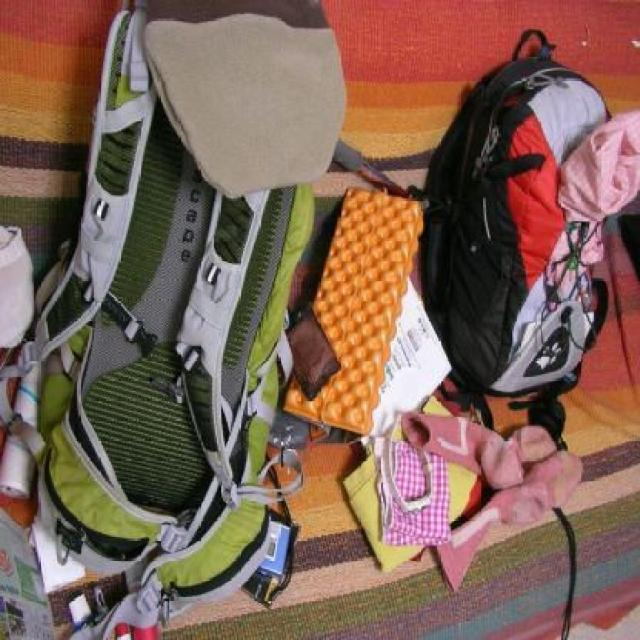backpack: (421, 29, 640, 403)
